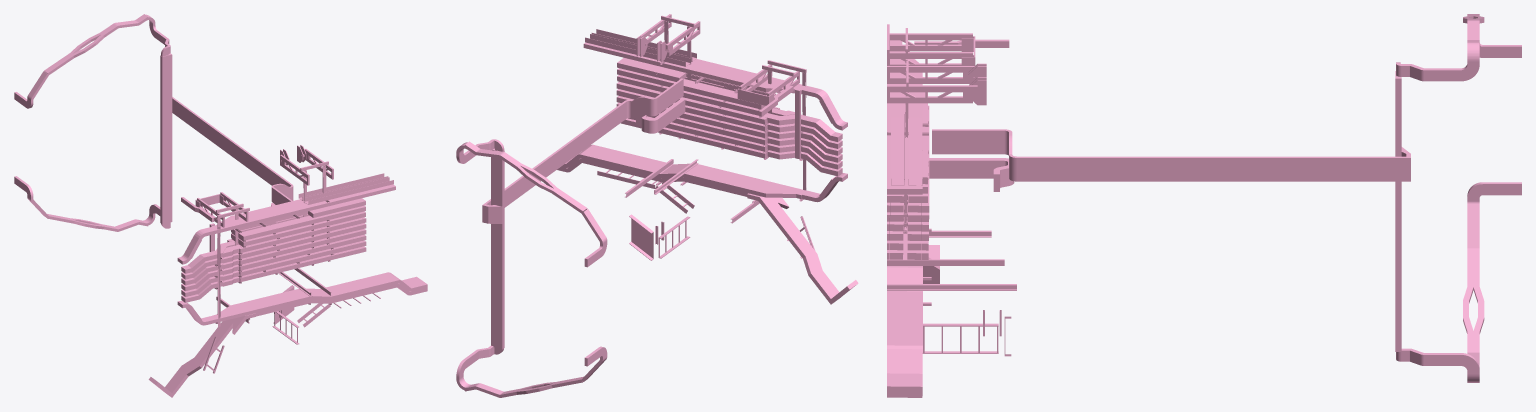
The model's file is Serv-Z0-Sec1-cut1.glb.
The picture shows the model from 3 angles, left to right: view 1: azimuth 30°, elevation 25°; view 2: azimuth 150°, elevation 25°; view 3: azimuth 270°, elevation 25°; orthographic projection. The views are drawn at different scales.
Visible parts, largest first — view 1: Serv-Z0-Sec1-Cabels-cut1, Serv-Z0-Sec1-Trays-cut1; view 2: Serv-Z0-Sec1-Cabels-cut1, Serv-Z0-Sec1-Trays-cut1; view 3: Serv-Z0-Sec1-Cabels-cut1, Serv-Z0-Sec1-Trays-cut1.
Boxes of the visible parts, x1,y1,x2,y2 form: Serv-Z0-Sec1-Cabels-cut1: (14,14,427,397); Serv-Z0-Sec1-Trays-cut1: (195,145,393,373); Serv-Z0-Sec1-Cabels-cut1: (456,42,858,397); Serv-Z0-Sec1-Trays-cut1: (585,14,815,260); Serv-Z0-Sec1-Cabels-cut1: (887,14,1521,397); Serv-Z0-Sec1-Trays-cut1: (887,24,1016,356).
Bounding box in the file's own units: 8.05 × 6.49 × 10.33.
